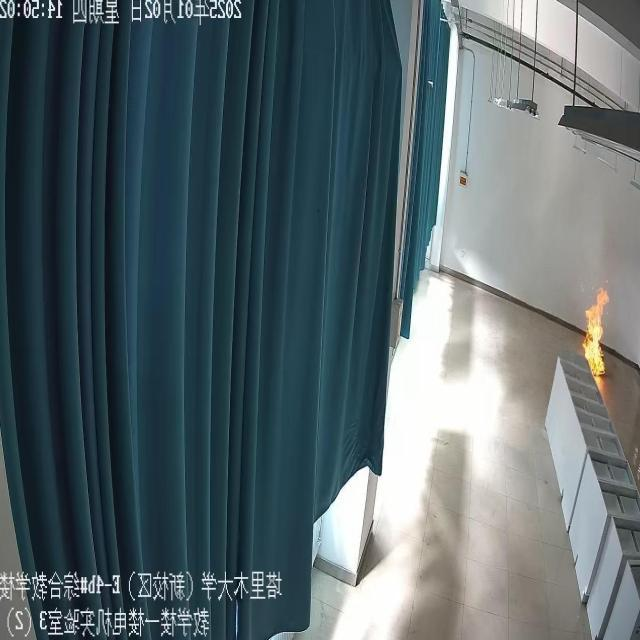smoke: (580, 278, 610, 381)
